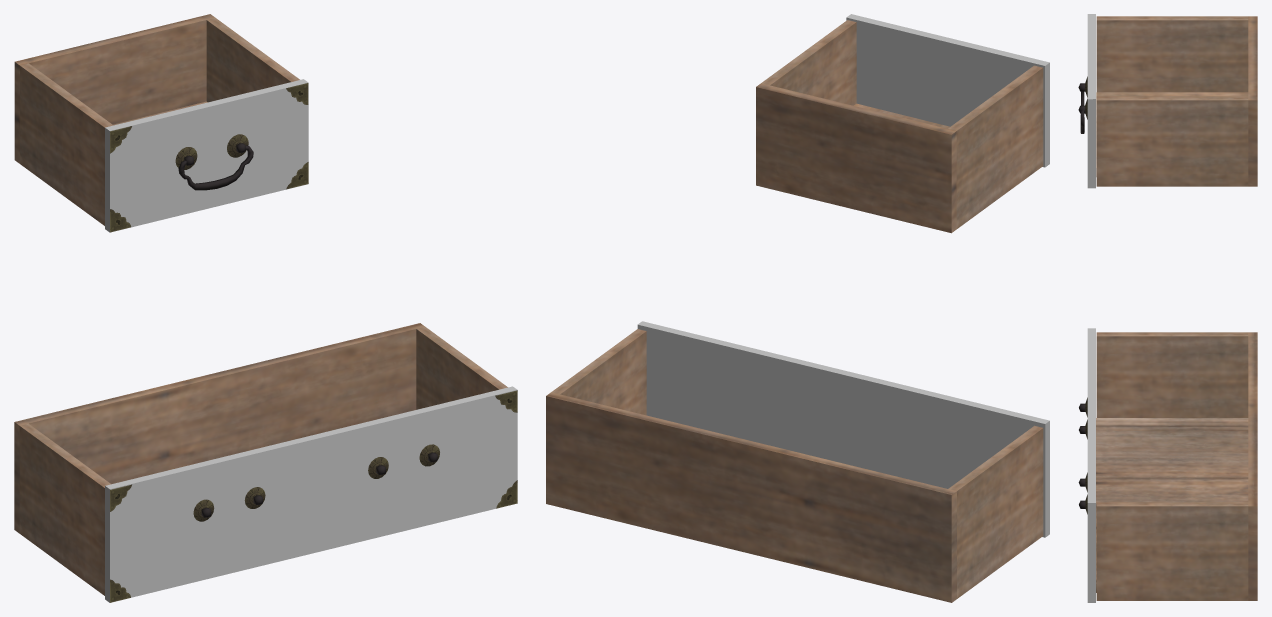
Rendered from jov_tansu01b.fbx.
3 views of the same model, side by side, from view 1: azimuth 30°, elevation 25°; view 2: azimuth 150°, elevation 25°; view 3: azimuth 270°, elevation 25° (orthographic). The views are drawn at different scales.
Parts seen in each view (by area): view 1: jov_tansu01b_chest5, jov_tansu01b_chest1, jov_tansu01b_chesthundle01; view 2: jov_tansu01b_chest5, jov_tansu01b_chest1; view 3: jov_tansu01b_chest5, jov_tansu01b_chest1.
Boxes of the visible parts, <box> form: jov_tansu01b_chest5: <box>14,323,517,602</box>; jov_tansu01b_chest1: <box>14,14,308,232</box>; jov_tansu01b_chesthundle01: <box>178,145,253,190</box>; jov_tansu01b_chest5: <box>546,321,1049,602</box>; jov_tansu01b_chest1: <box>756,14,1049,233</box>; jov_tansu01b_chest5: <box>1078,328,1257,602</box>; jov_tansu01b_chest1: <box>1078,14,1257,188</box>.
Size of what is drawn, in the model's own units: 1.13 by 1.25 by 0.4897.
